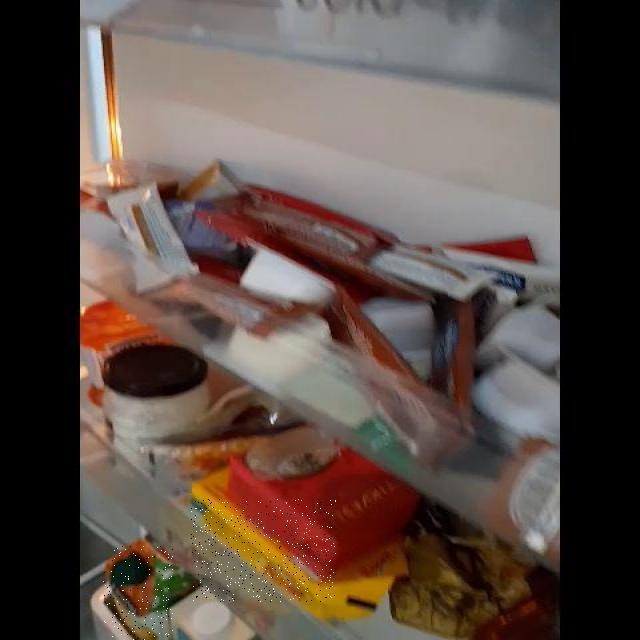butter: (191, 499, 336, 602)
juice: (103, 546, 173, 640)
